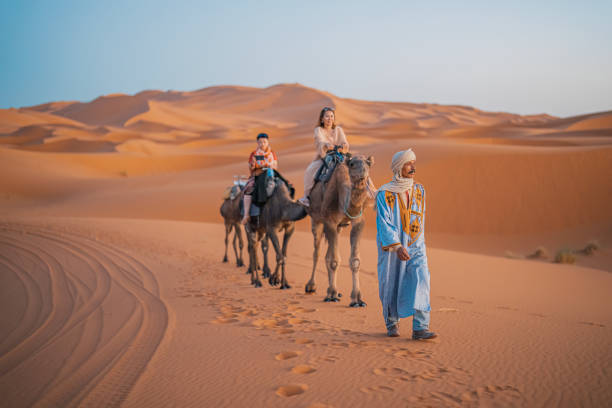human_foot_print: (216, 287, 434, 405), (209, 288, 326, 396), (207, 288, 317, 397), (244, 297, 379, 381), (372, 345, 522, 405), (206, 290, 318, 334), (410, 385, 524, 405), (195, 292, 258, 323), (372, 364, 451, 382), (383, 345, 432, 358), (212, 306, 243, 323), (276, 384, 309, 397), (436, 295, 473, 304), (372, 367, 408, 376), (308, 354, 339, 364), (286, 303, 317, 313), (251, 318, 280, 328), (359, 385, 394, 393), (275, 351, 301, 360), (291, 364, 315, 373), (211, 316, 238, 323), (578, 321, 605, 327), (288, 317, 308, 324), (306, 402, 333, 407), (276, 327, 294, 334), (496, 305, 519, 310), (294, 337, 313, 343), (436, 307, 458, 312), (272, 312, 293, 317), (528, 312, 547, 317)
vehicle_track: (0, 223, 167, 405)
